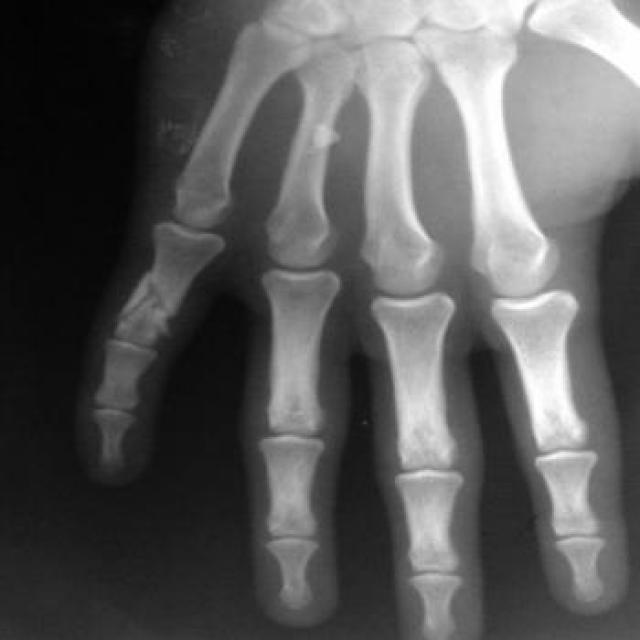fracture: (106, 262, 190, 345)
